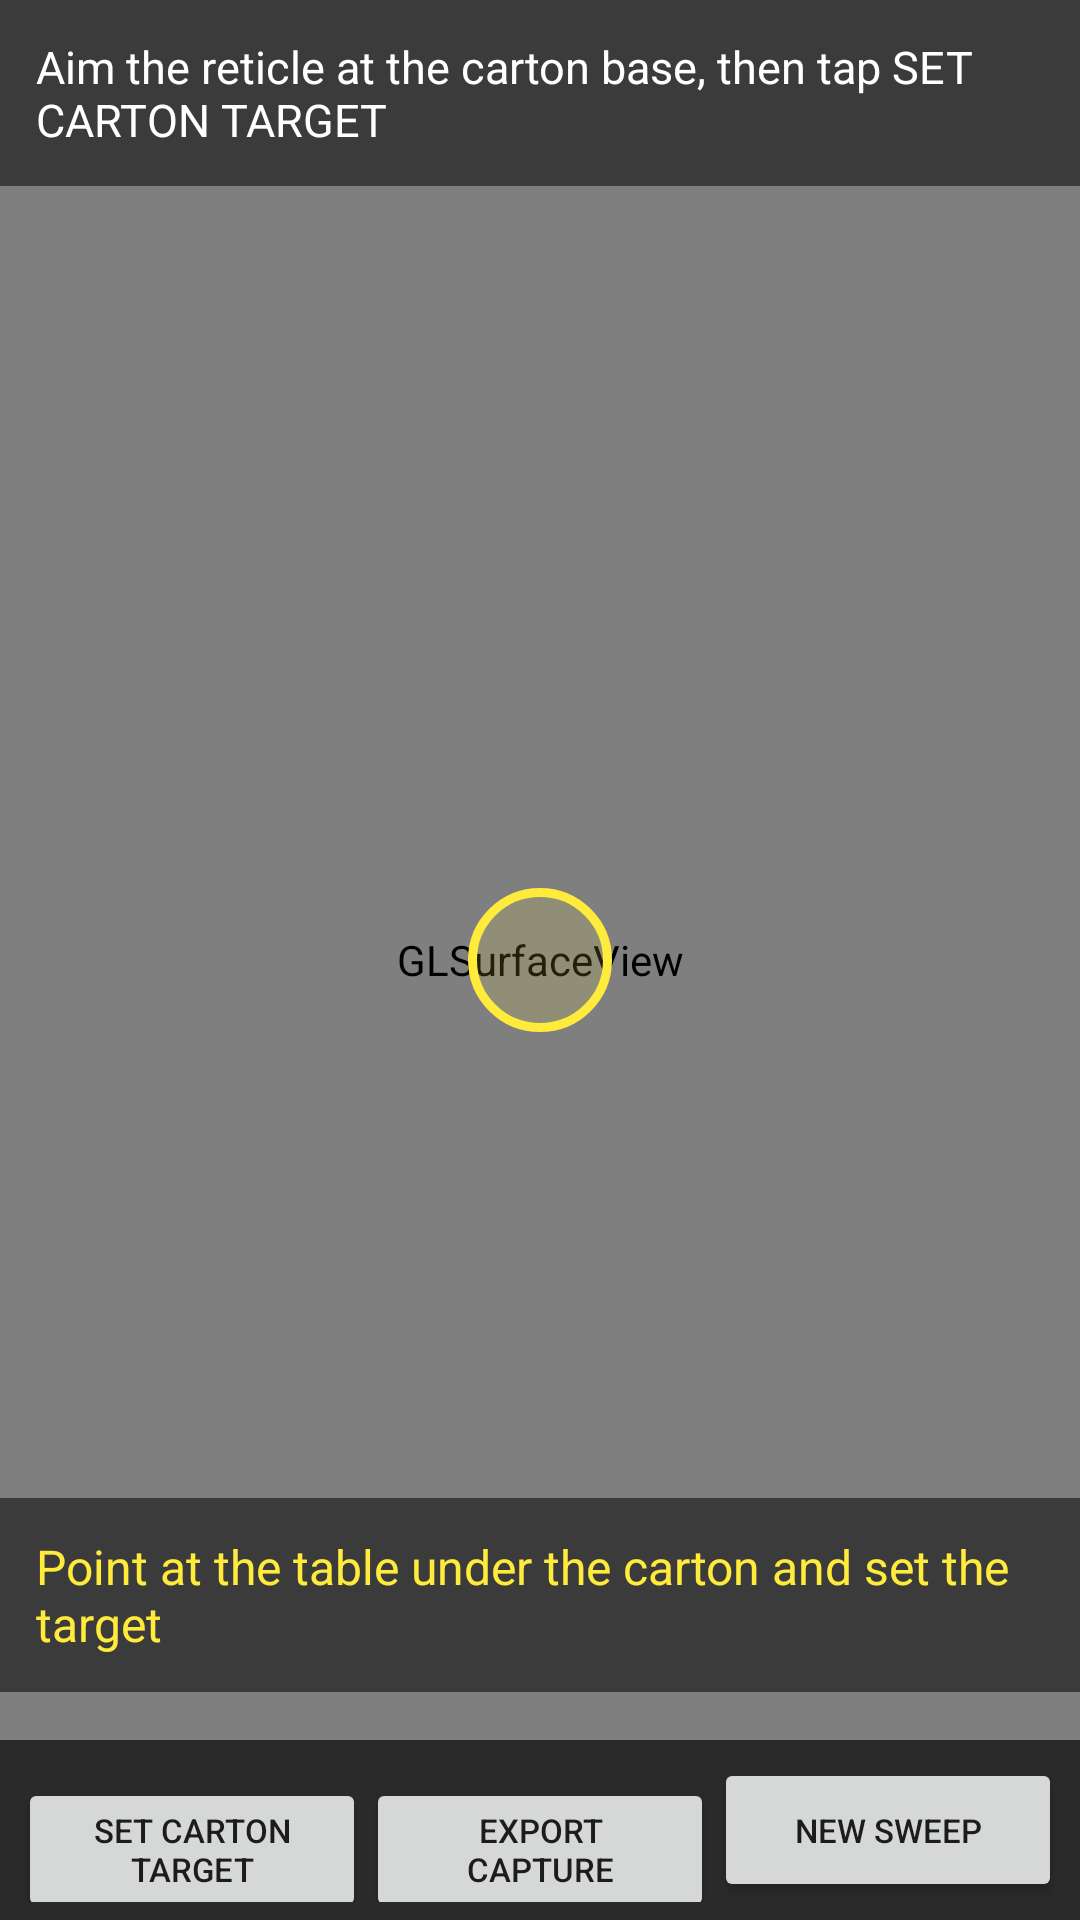

Point at icon controls on the screen. Image size 1080×1920, points as (x=x, y=y).
reticle: (x=540, y=960)
